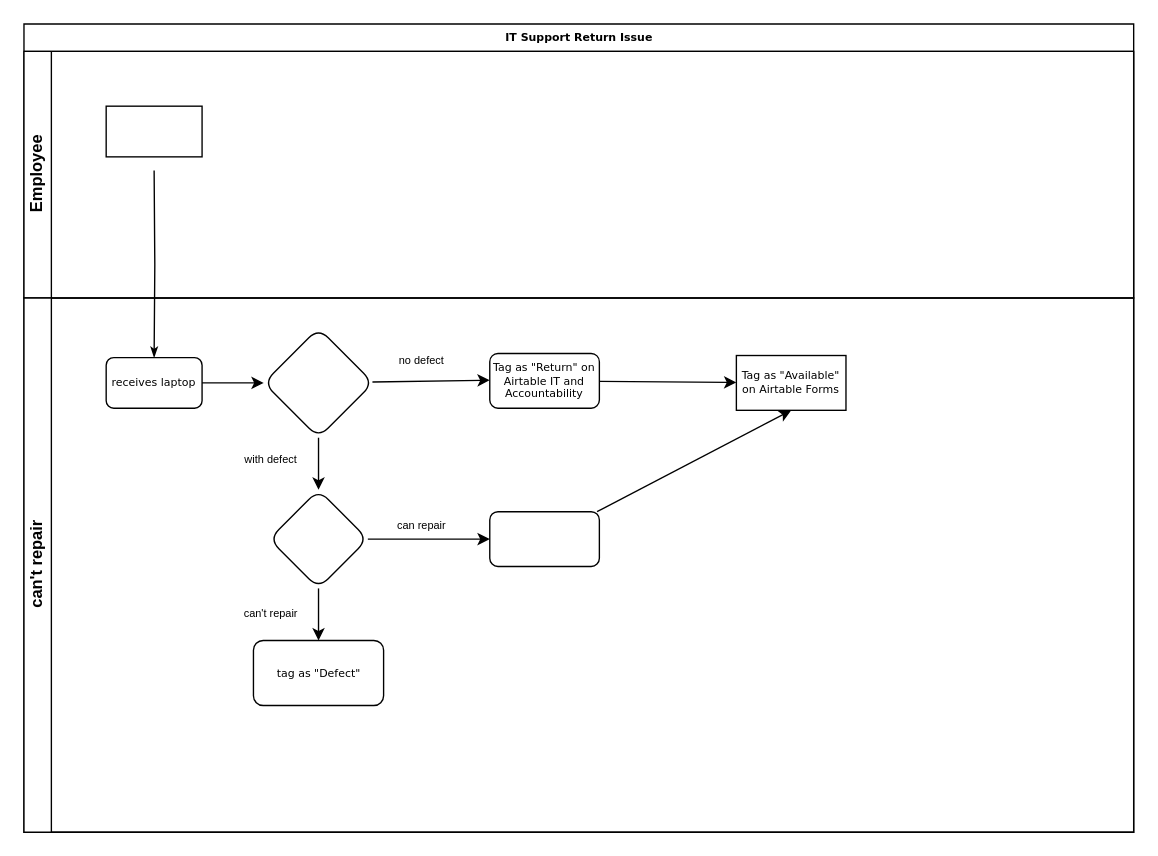
This 1158x856 diagram has some shape labels left out. The shapes that lost their labels are listed below. From the top down, each one's centre as x and y in pixels, then its label:
the point at 153,131: returns laptop
the point at 317,382: has defect?
the point at 318,538: can the IT Specialist repair it?
the point at 543,538: repair
